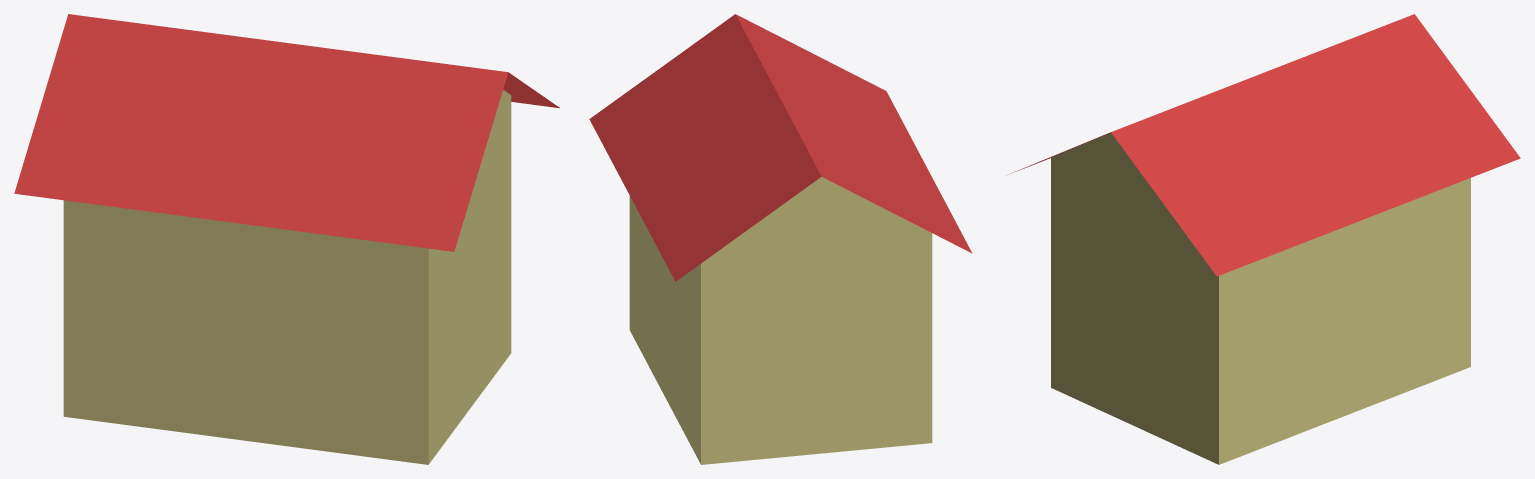
3 renders of one model, left to right at view 1: azimuth 30°, elevation 25°; view 2: azimuth 150°, elevation 25°; view 3: azimuth 270°, elevation 25°, orthographic. The views are drawn at different scales.
Size of the model in its own units: 14.55 by 14.71 by 9.53.
